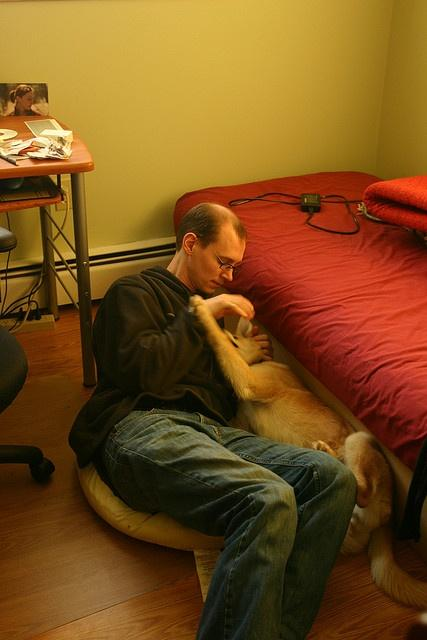Meja: (0, 113, 97, 386)
